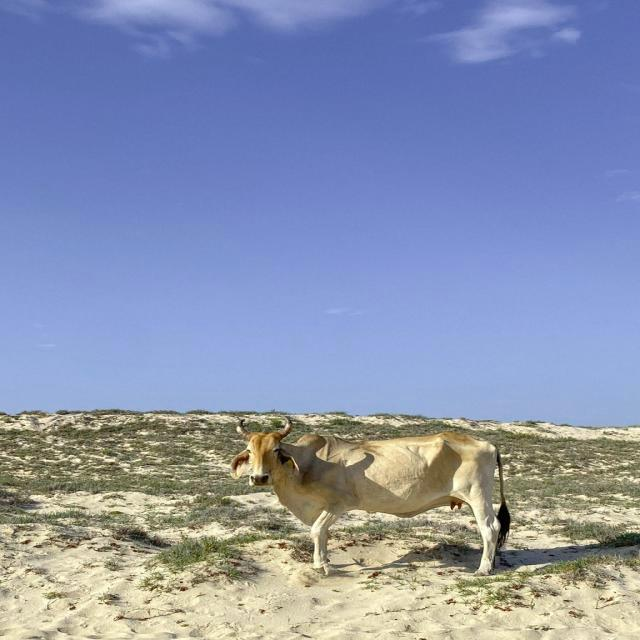cow: (232, 418, 510, 574)
